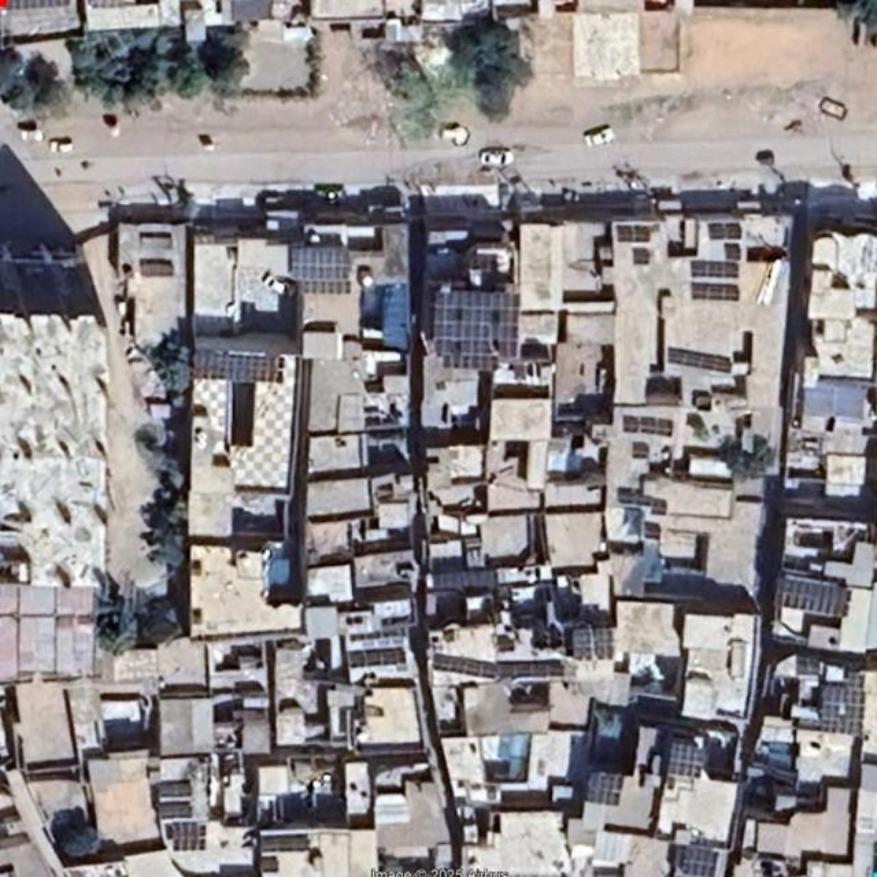Solarpanel: (436, 284, 522, 368), (191, 346, 283, 387), (292, 239, 352, 297), (785, 574, 855, 617), (821, 685, 864, 735), (669, 348, 731, 374), (433, 656, 499, 680), (588, 769, 626, 810), (667, 741, 706, 778), (570, 630, 610, 661), (678, 850, 725, 876), (500, 662, 562, 678), (348, 649, 405, 665), (690, 261, 740, 278), (624, 418, 673, 435), (175, 824, 202, 854), (693, 284, 739, 300), (619, 224, 650, 240), (706, 224, 741, 238)
